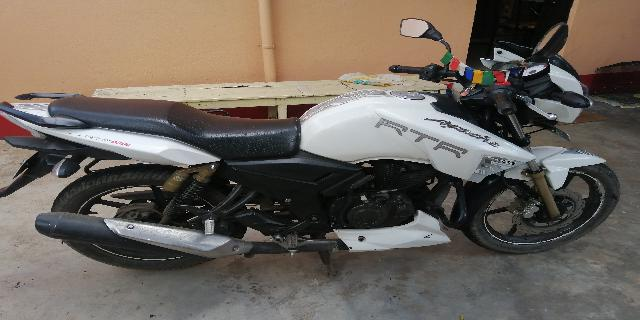Motorbike: (1, 12, 623, 268)
